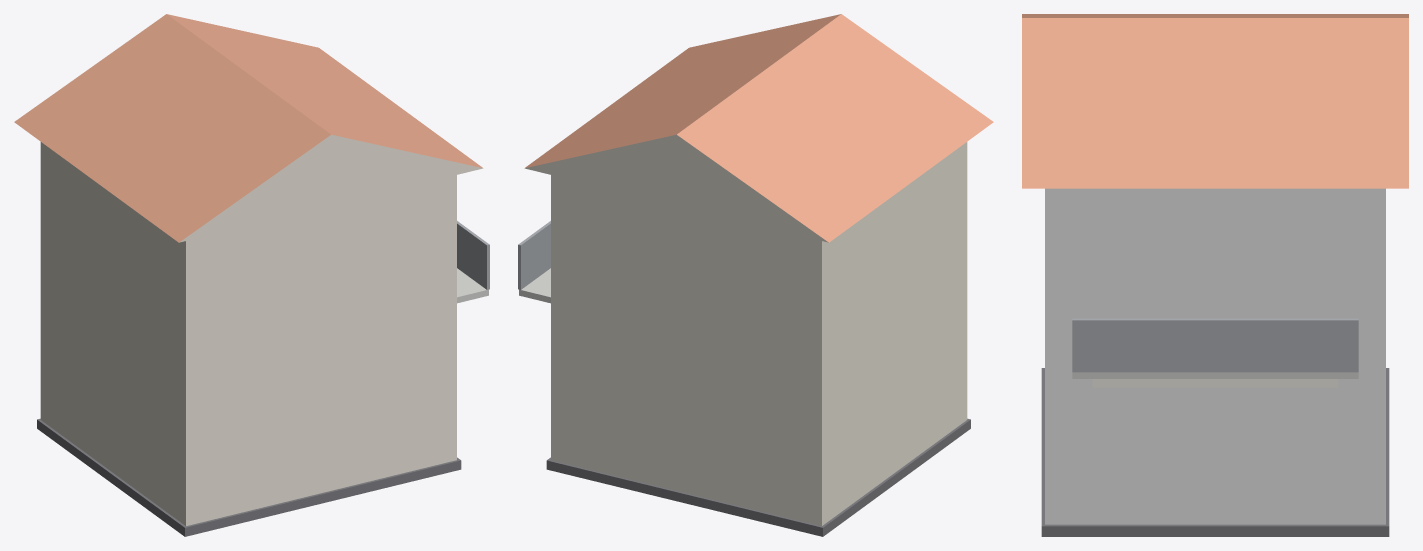
The model's file is Bldg_F.fbx.
3 renders of one model, left to right at view 1: azimuth 30°, elevation 25°; view 2: azimuth 150°, elevation 25°; view 3: azimuth 270°, elevation 25°, orthographic. The views are drawn at different scales.
Visible parts, largest first — view 1: Bldg_F; view 2: Bldg_F; view 3: Bldg_F.
Boxes of the visible parts, left/top/right/bottom form: Bldg_F: left=14, top=14, right=489, bottom=536; Bldg_F: left=518, top=14, right=993, bottom=536; Bldg_F: left=1022, top=14, right=1408, bottom=536.
Bounding box in the file's own units: 6.87 × 7.4 × 5.9.
